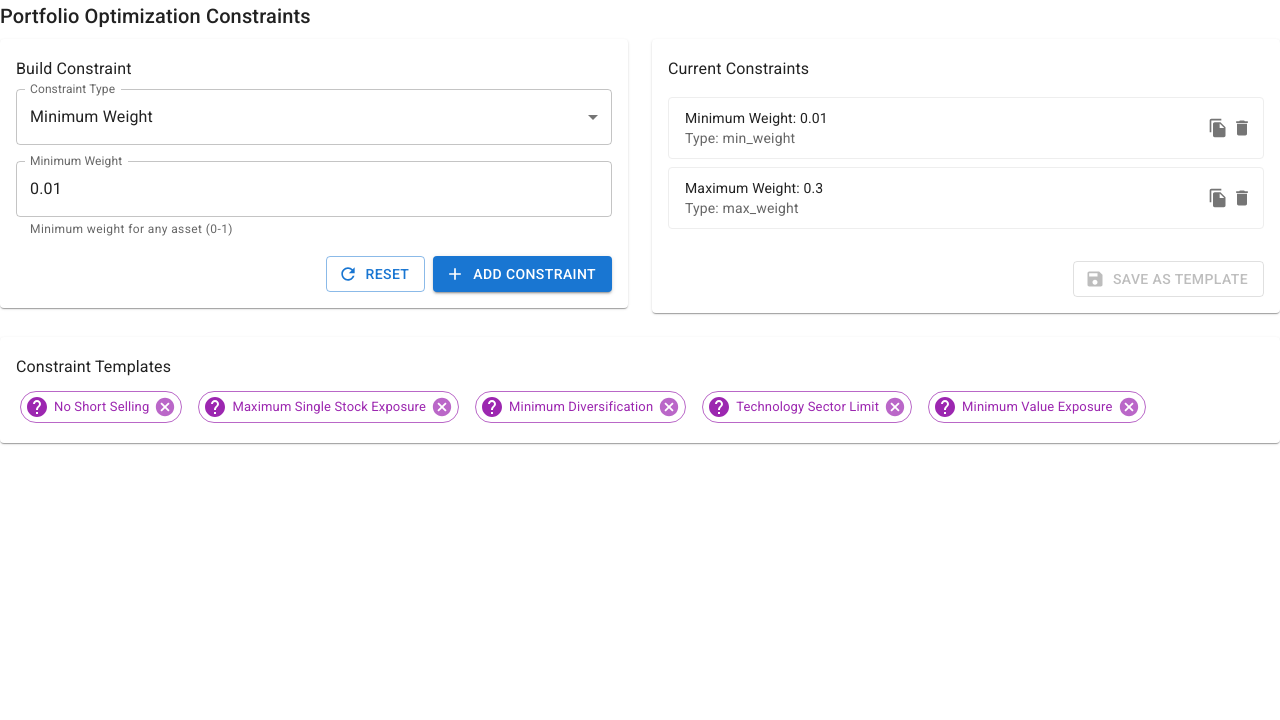
OptimizationConstraintBuilder › allows duplicating a constraint
// Find and click the duplicate button for the first constraint
Click the button named "duplicate" in the row of "Minimum Weight: 0.01".
click(1218, 128)  # box left=1200, top=110, right=1236, bottom=146
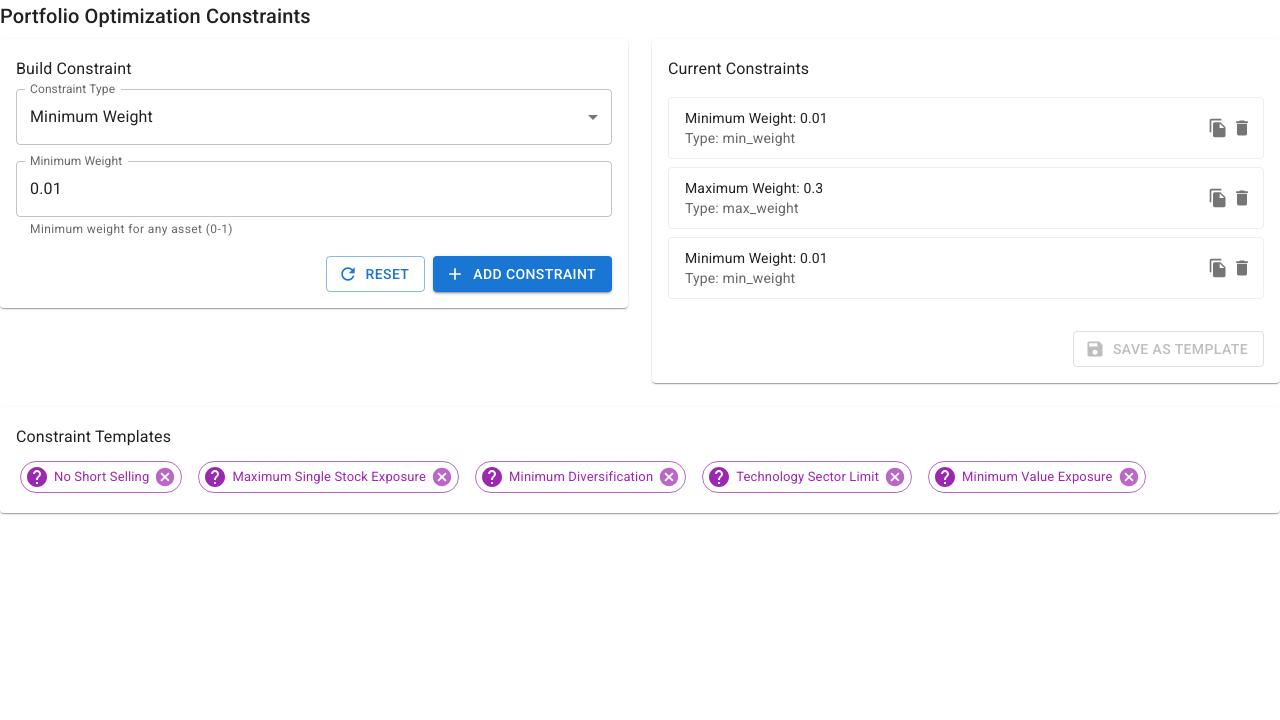
Expected: the text "Minimum Weight: 0.01" is shown 2 times, left=685, top=110, right=828, bottom=126; left=685, top=250, right=828, bottom=266
